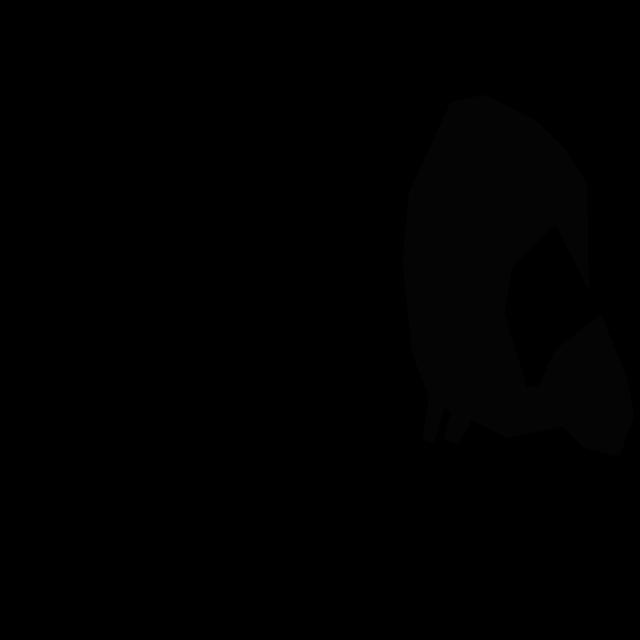soft_plastic: (402, 95, 634, 457)
